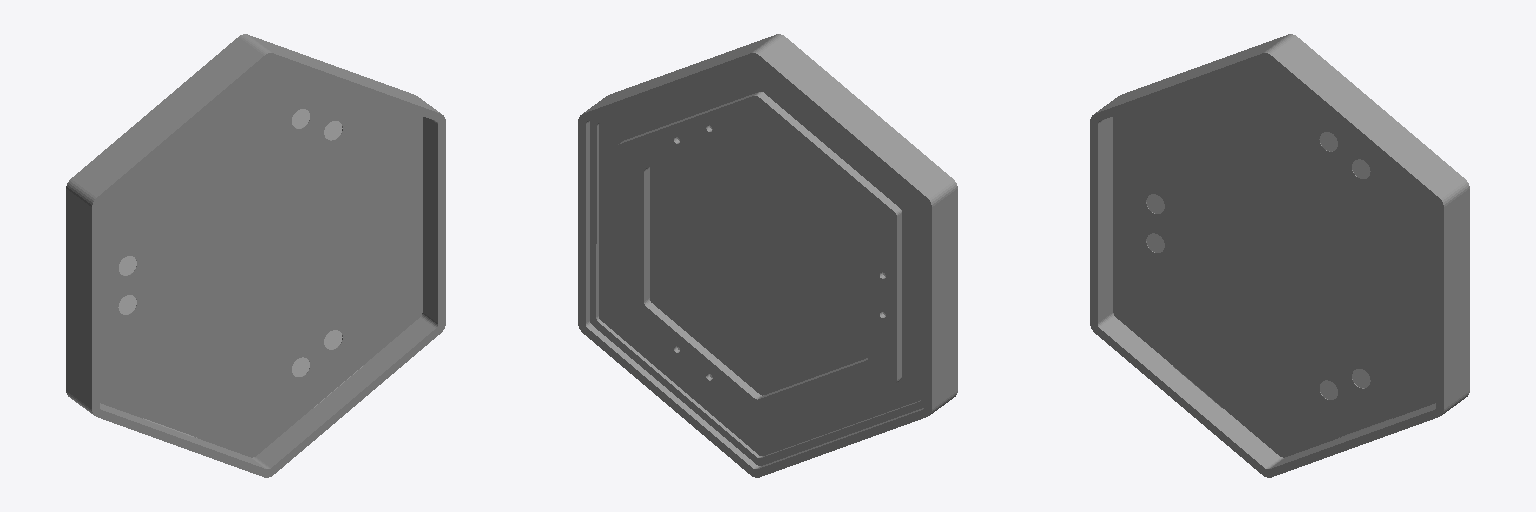
Rendered from gimbal_uniform.obj.
3 renders of one model, left to right at view 1: azimuth 30°, elevation 25°; view 2: azimuth 150°, elevation 25°; view 3: azimuth 330°, elevation 25°, orthographic.
Visible parts, largest first — view 1: GimbalSurface, GimbalLimit.001, Cylinder; view 2: GimbalSurface, GimbalLimit.001; view 3: GimbalSurface, GimbalLimit.001, Cylinder.
Part boxes in pixels (left/top/right/bottom): GimbalSurface: left=100, top=62, right=422, bottom=456; GimbalLimit.001: left=66, top=34, right=445, bottom=477; Cylinder: left=118, top=109, right=362, bottom=437; GimbalSurface: left=599, top=66, right=921, bottom=455; GimbalLimit.001: left=578, top=34, right=957, bottom=477; GimbalSurface: left=1113, top=62, right=1435, bottom=456; GimbalLimit.001: left=1090, top=34, right=1469, bottom=477; Cylinder: left=1147, top=132, right=1392, bottom=437.
Size of the model in its own units: 189 by 217 by 24.